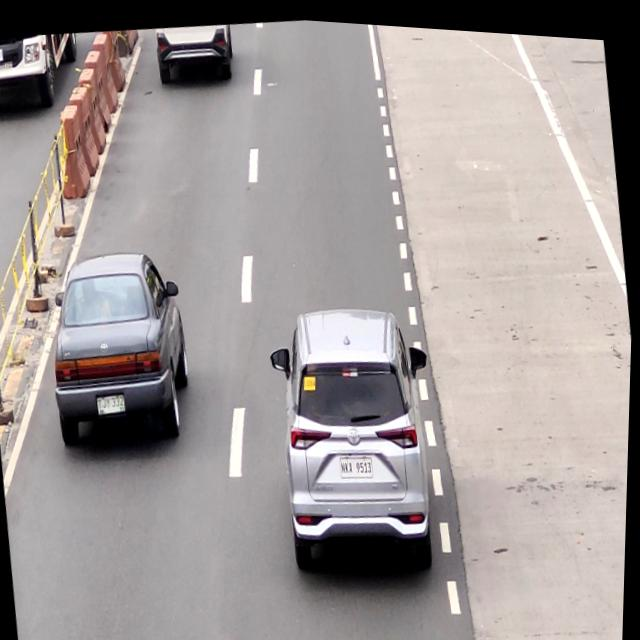Car: (266, 291, 448, 568), (39, 239, 206, 457), (150, 16, 239, 91)
License-Plate: (340, 445, 377, 480), (94, 389, 131, 419)
